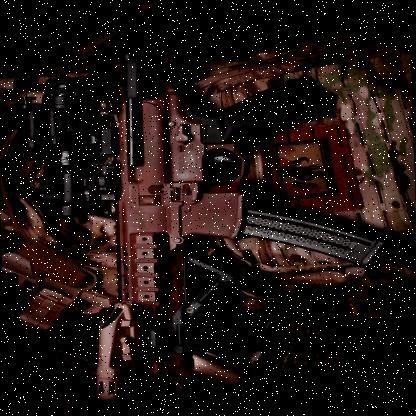rifle: (54, 4, 409, 406)
